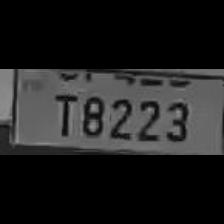2: (132, 95, 160, 141), (106, 94, 132, 142)
3: (160, 96, 190, 142)
8: (78, 91, 104, 138)
T: (48, 88, 78, 136)
